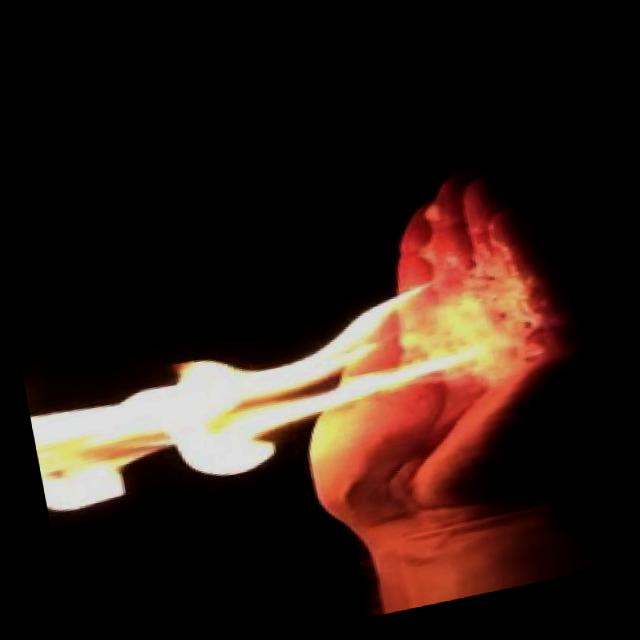Fire: (12, 262, 522, 541)
